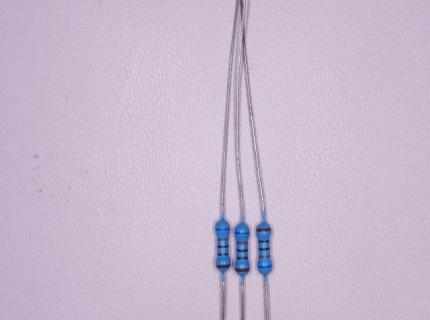Black band: (236, 256, 248, 260), (258, 239, 269, 243), (259, 247, 270, 251), (217, 245, 229, 248), (236, 249, 248, 252), (217, 253, 228, 256)
Blue band: (257, 264, 272, 269), (214, 227, 230, 231), (235, 231, 249, 235)
Brown band: (256, 227, 272, 232), (235, 268, 250, 272), (217, 265, 231, 268)
Grey band: (258, 254, 271, 259), (236, 241, 248, 245), (217, 237, 229, 241)
